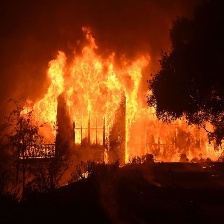fire: (20, 26, 224, 160)
smoke: (3, 1, 49, 98)
